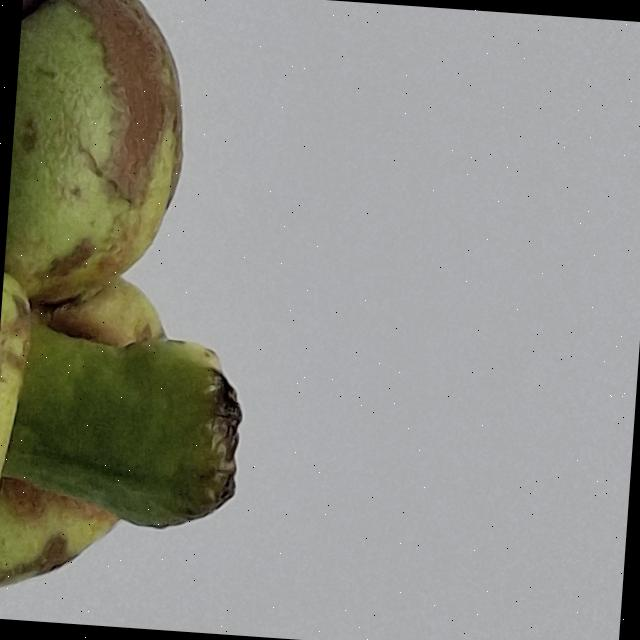mangosteen: (0, 0, 312, 637)
